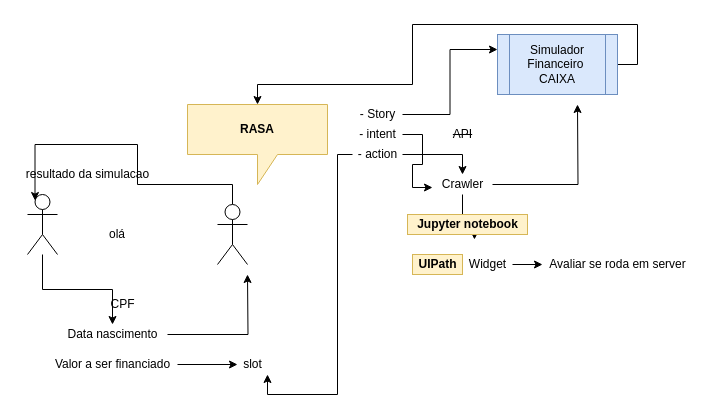
Some shapes in this 709 by 420 pixel diagram are drawn without their labels. The centre of each missing label's shape, as x and y in pixels:
"Cliente" goes at (x=42, y=224).
"Robo" goes at (x=232, y=234).
